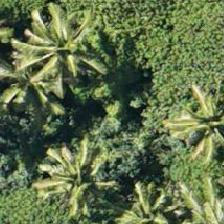coconut_tree: (10, 1, 100, 91), (30, 142, 120, 223), (166, 78, 223, 168)
